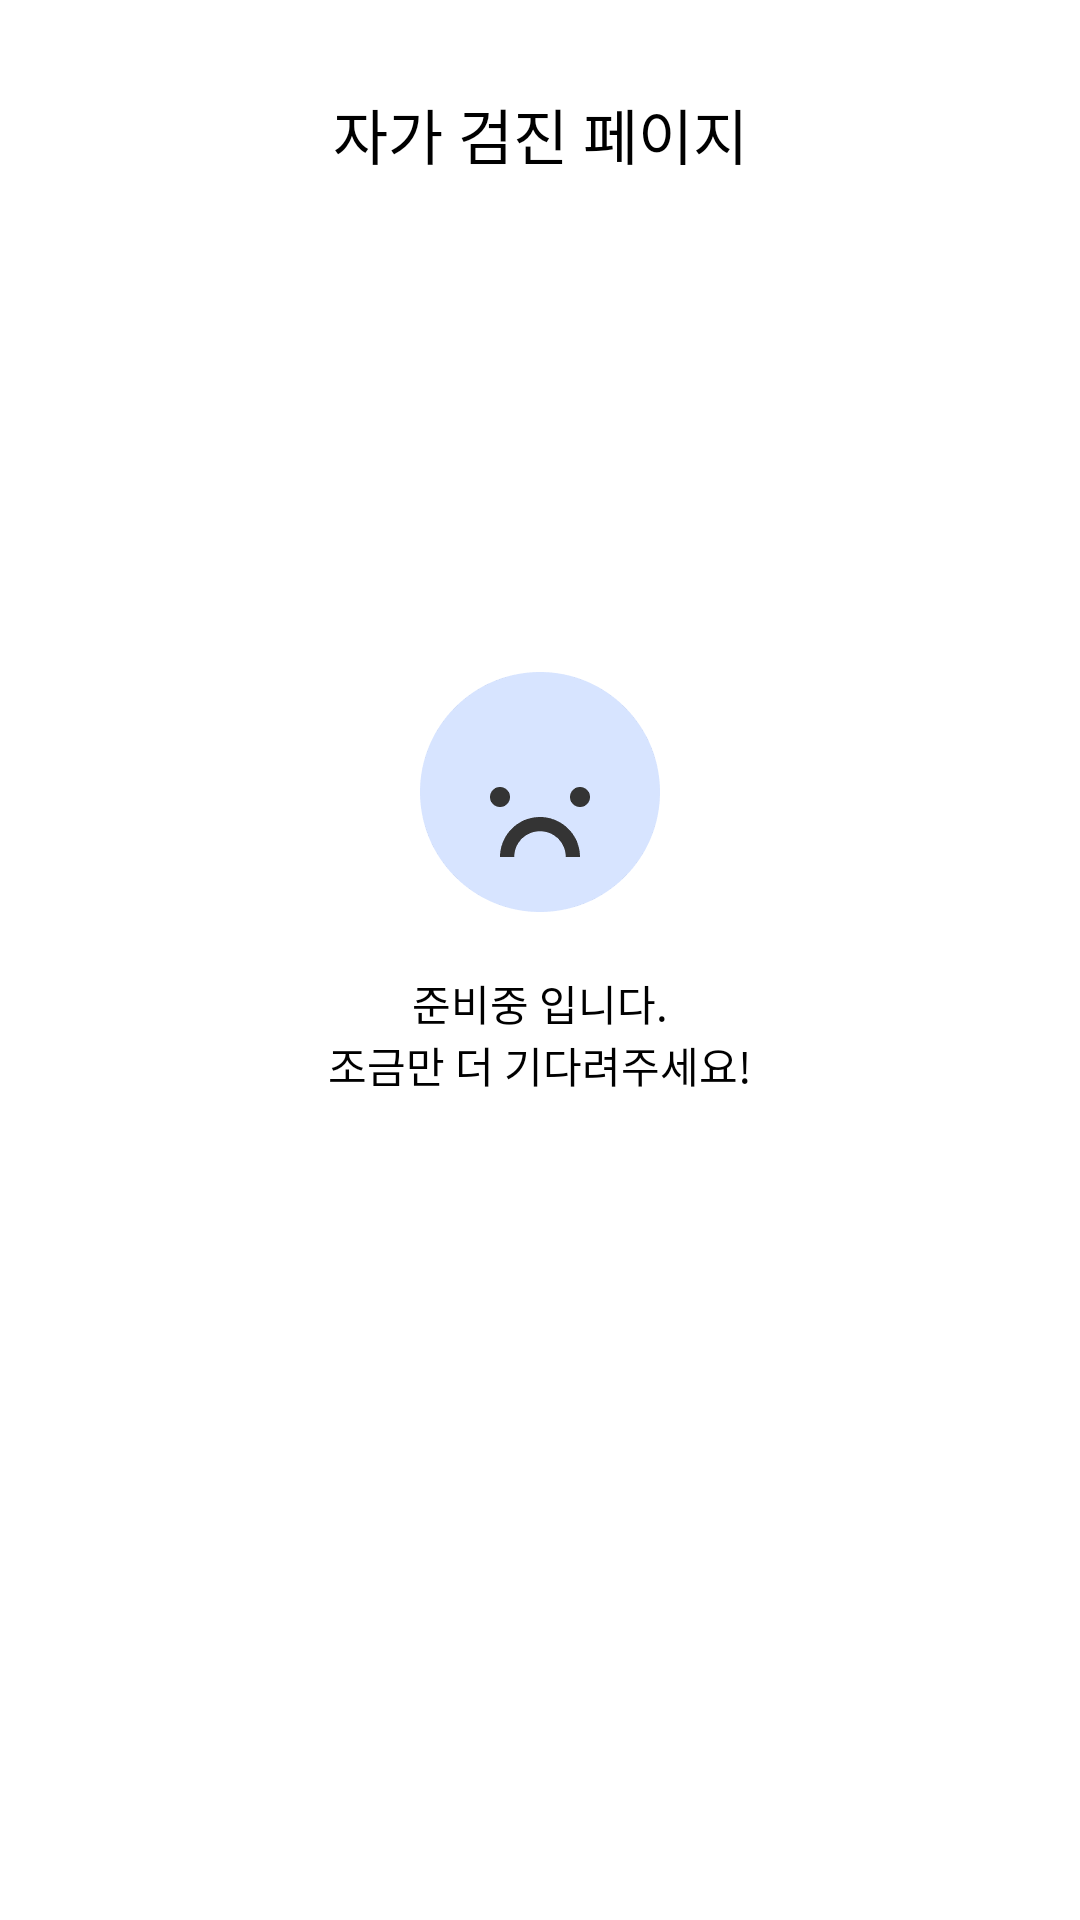

Where icons sit on this 1080*1920 app screen, as (x1, y1, x2, y2):
fragment feeling: (420, 672, 660, 912)
